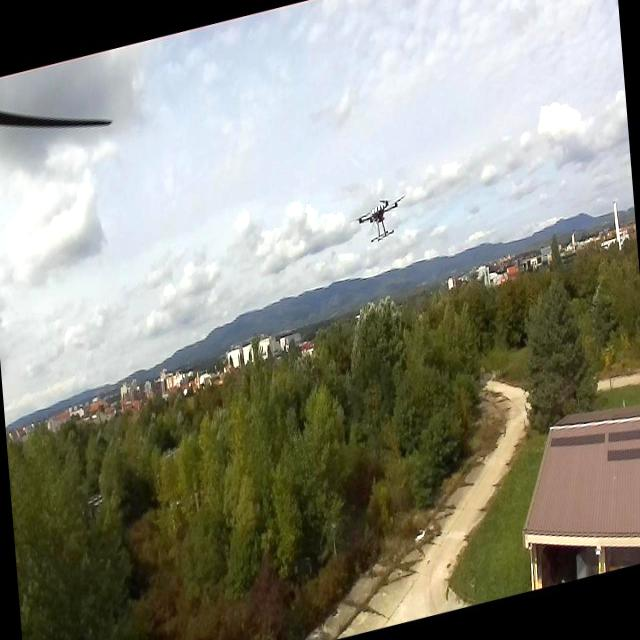drone: (353, 187, 407, 248)
